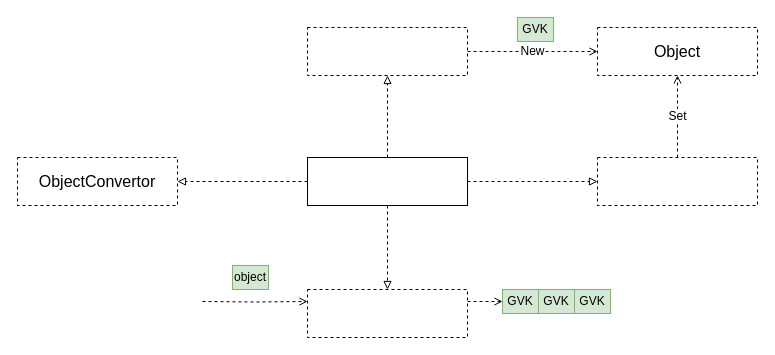
This 775x355 diagram has some shape labels left out. Here are the shapes that lost their labels. From the top down, the centre of each, then its label:
At (387,51): "ObjectCreater".
At (387,181): "Scheme".
At (677,181): "ObjectDefaulter".
At (387,313): "ObjectTyper".
